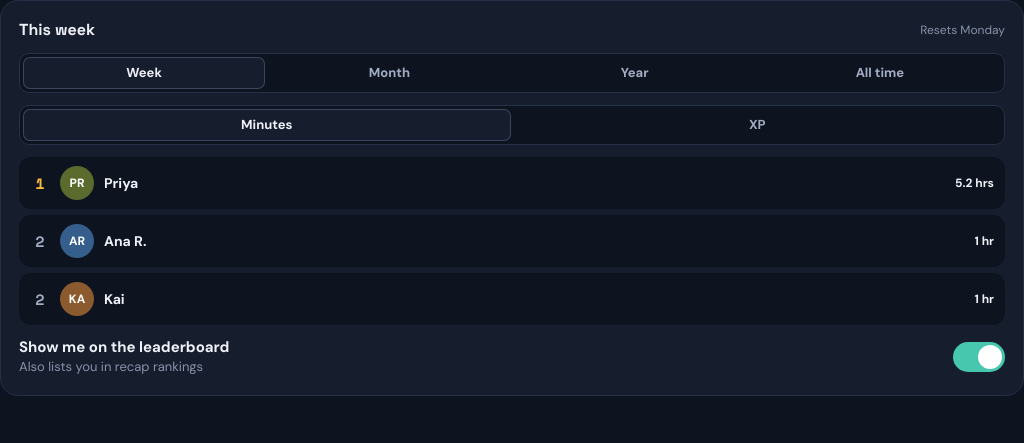
Test: WeeklyLeaderboard › hides you, then shows you again
Click the switch named "Show me on the leaderboard".
click(979, 357)  # box left=953, top=342, right=1005, bottom=372
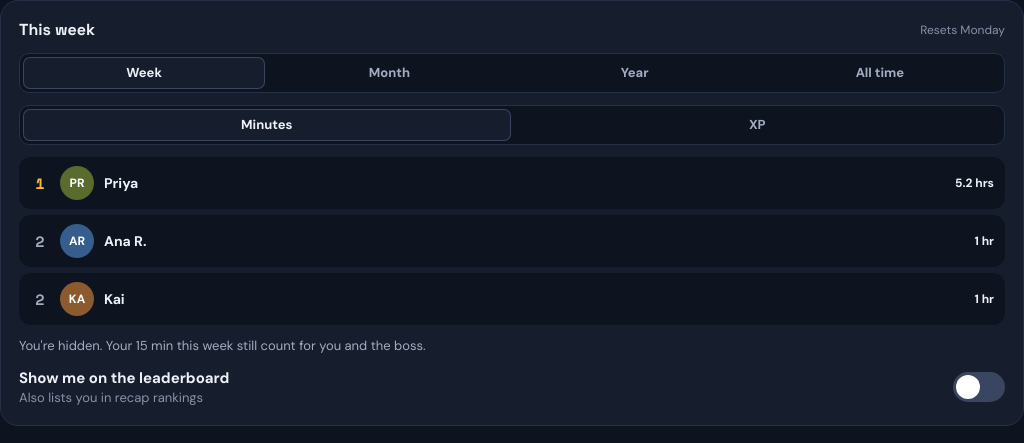
Expected: the switch named "Show me on the leaderboard" is not checked
Click the switch named "Show me on the leaderboard".
click(979, 387)  # box left=953, top=372, right=1005, bottom=402
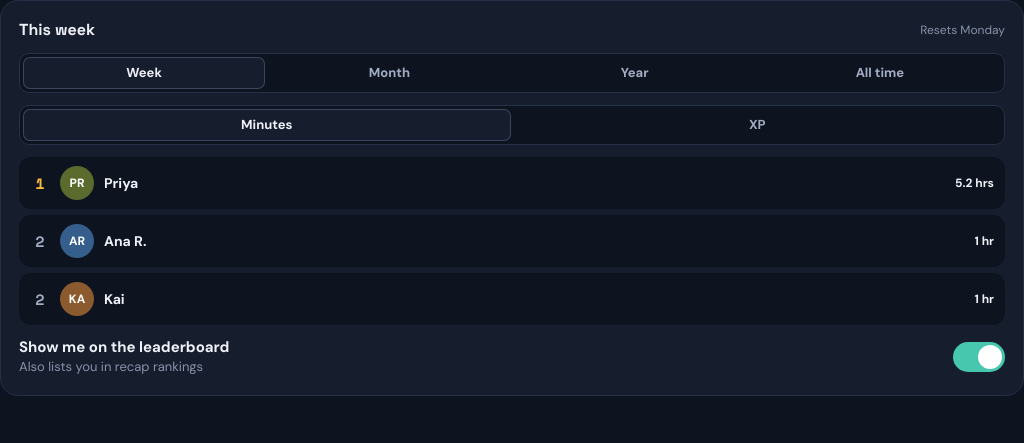
Expected: the text "You're hidden" is gone
